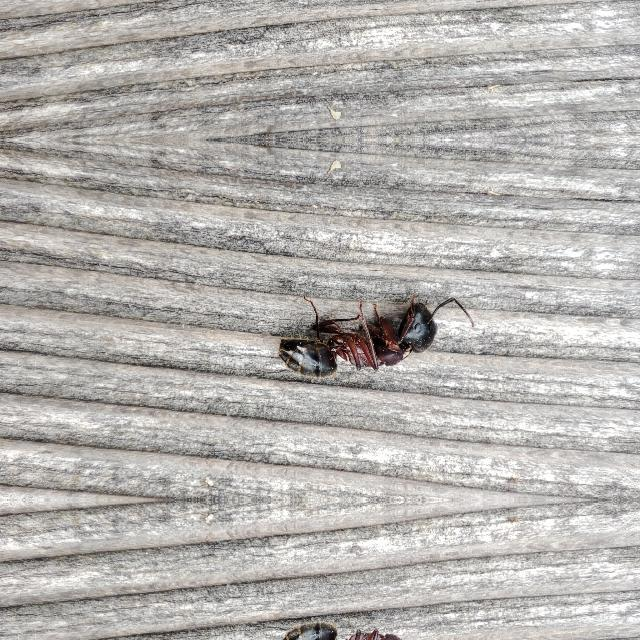Camponotus: (273, 294, 461, 386), (273, 614, 461, 640)
